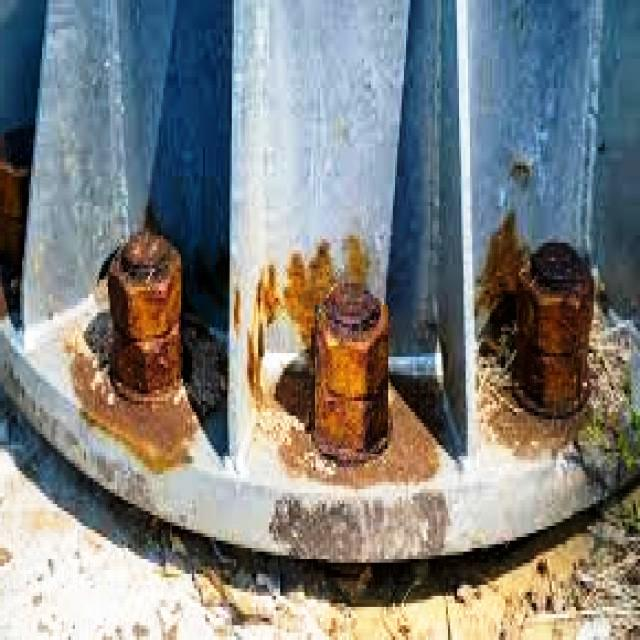Corrosion: (479, 214, 596, 454), (259, 386, 440, 488), (71, 340, 198, 472), (515, 243, 595, 417), (315, 281, 389, 462), (316, 281, 389, 461), (108, 230, 182, 394), (108, 230, 182, 340), (284, 242, 333, 346), (276, 353, 315, 430), (343, 235, 369, 290), (263, 265, 280, 324), (234, 290, 241, 330)
